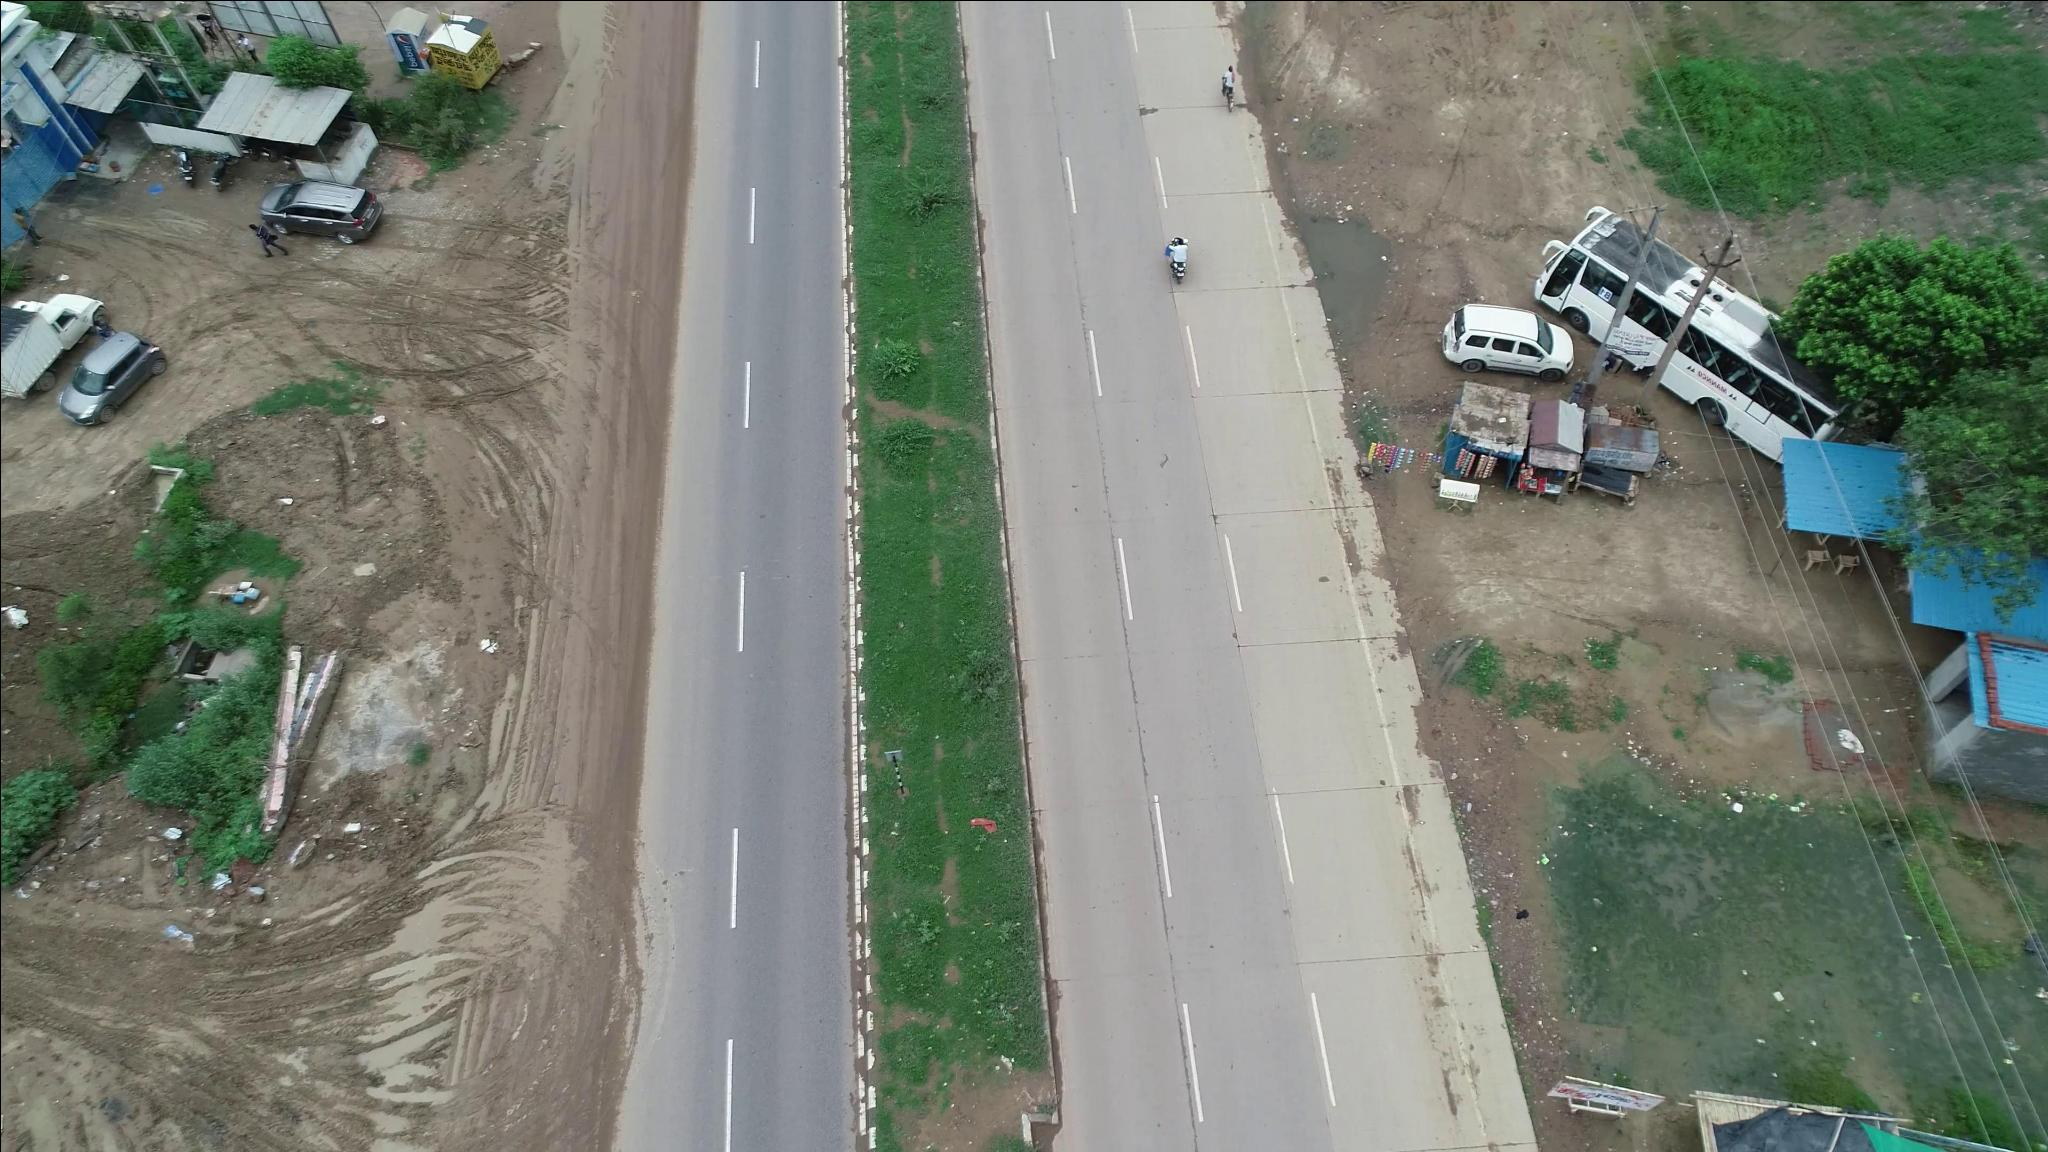Muddy_road: (461, 544, 663, 1134), (518, 108, 672, 544)
